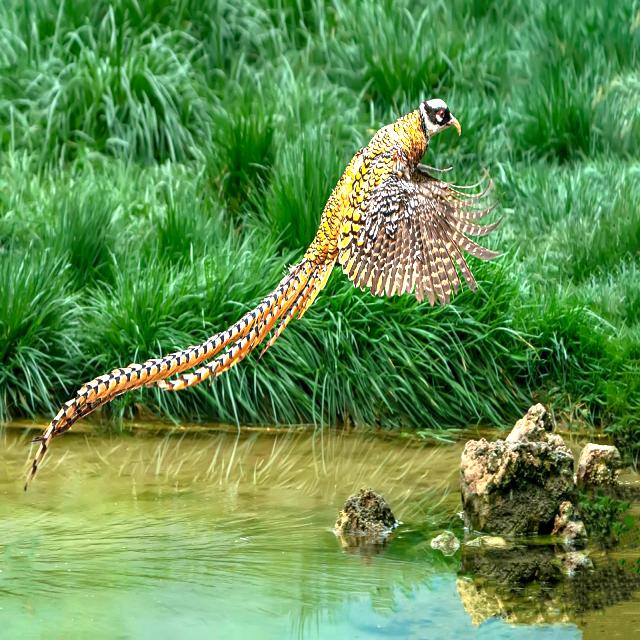Reeves-s Pheasant: (24, 258, 336, 492)
